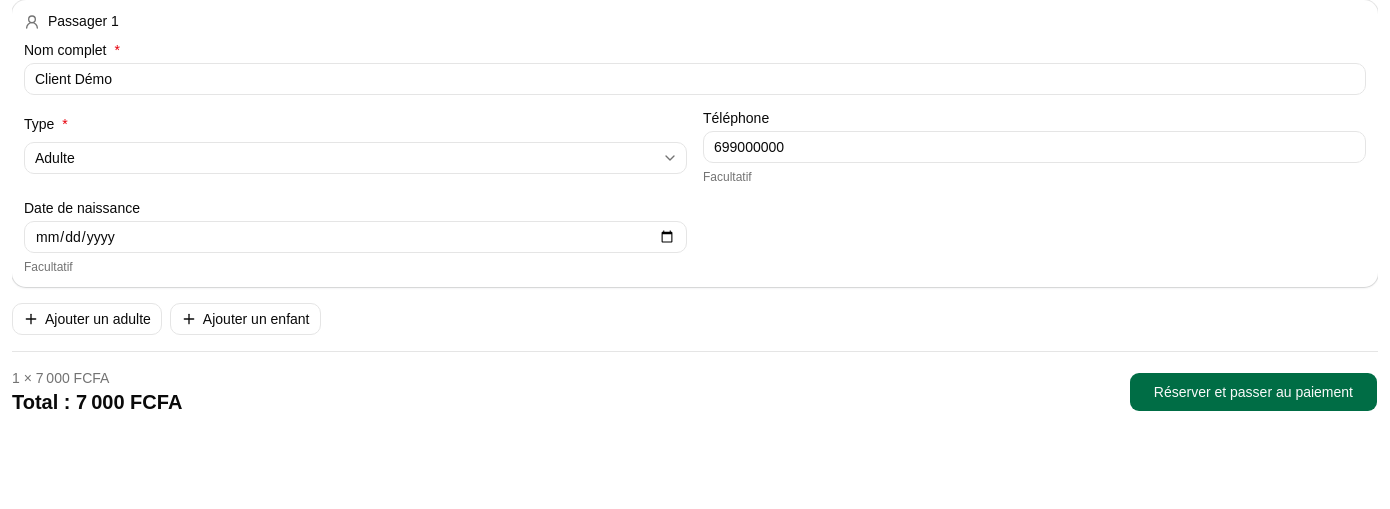
BookingForm › shows the API refusal when seats are no longer available
The image size is (1390, 509).
What coordinates should you click on to do the following:
click the button "Réserver et passer au paiement"
I would click on:
 (1253, 392)
Its box is [1129,372,1378,412].
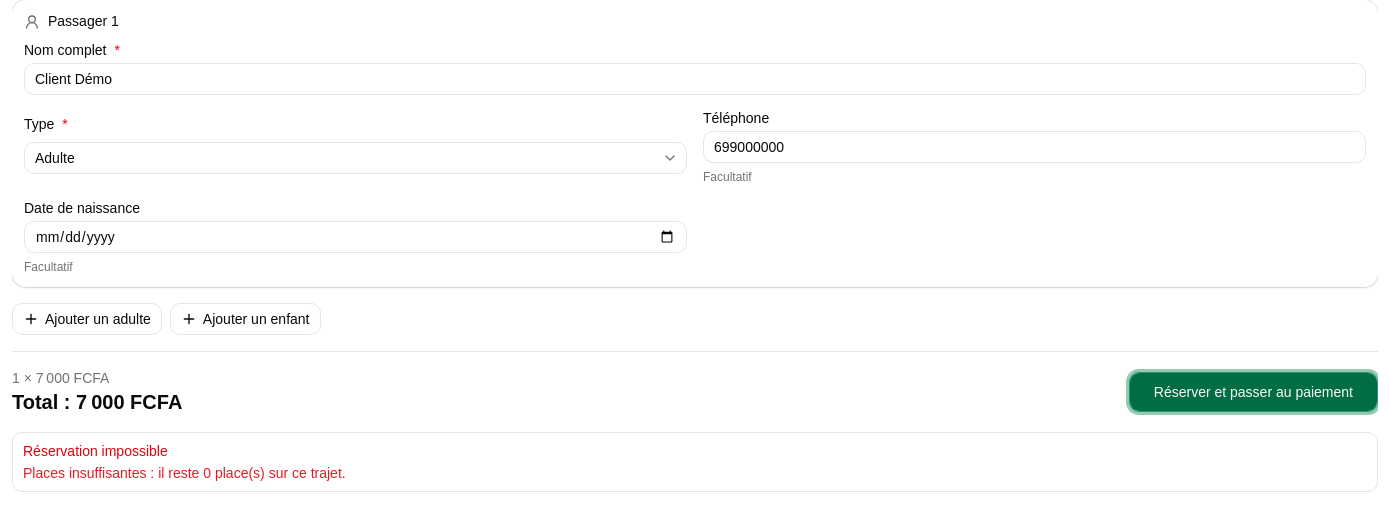
Result: the text "Places insuffisantes : il reste 0 place(s) sur ce trajet." is shown at [23,465,346,481]
